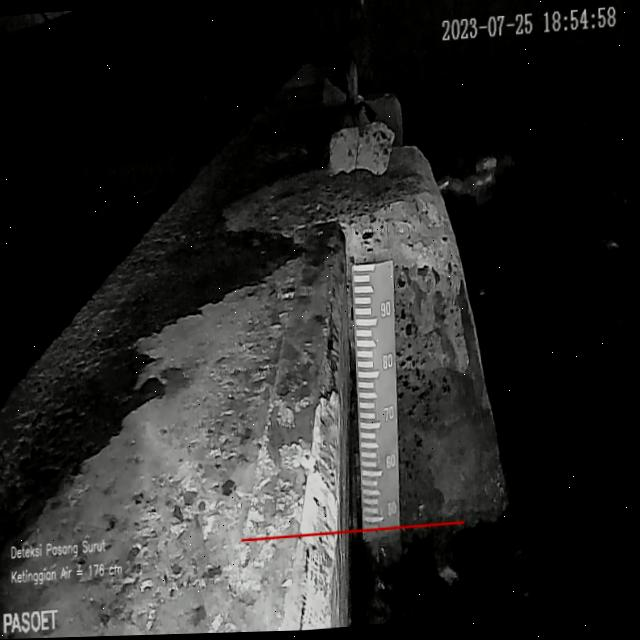water-meter: (336, 250, 419, 567)
